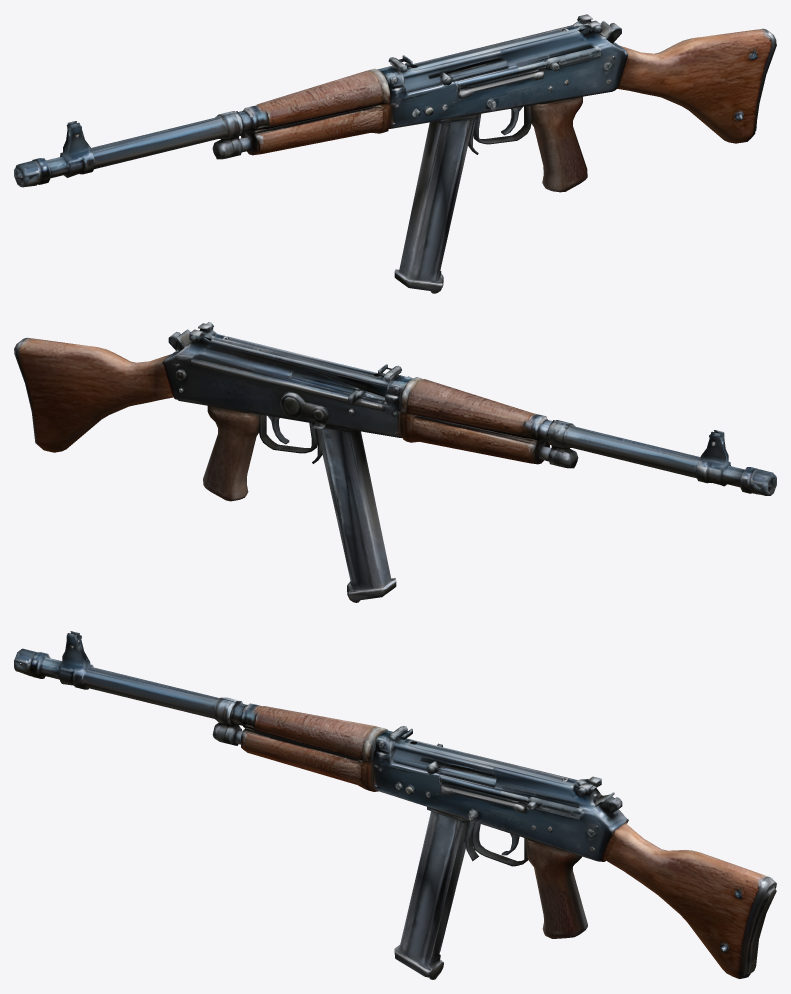
The model's file is United_Defense_M42.glb.
3 renders of one model, top to bottom at view 1: azimuth 30°, elevation 25°; view 2: azimuth 150°, elevation 25°; view 3: azimuth 330°, elevation 25°, orthographic.
Parts seen in each view (by area): view 1: tripo_node_eacd2cbe-9e86-4e96-b8fd-9f664f209940; view 2: tripo_node_eacd2cbe-9e86-4e96-b8fd-9f664f209940; view 3: tripo_node_eacd2cbe-9e86-4e96-b8fd-9f664f209940.
Boxes of the visible parts, x1,y1,x2,y2 form: tripo_node_eacd2cbe-9e86-4e96-b8fd-9f664f209940: [14, 14, 776, 293]; tripo_node_eacd2cbe-9e86-4e96-b8fd-9f664f209940: [14, 322, 776, 602]; tripo_node_eacd2cbe-9e86-4e96-b8fd-9f664f209940: [14, 631, 776, 979].
Bounding box in the file's own units: 0.998 × 0.3262 × 0.0723.
1 material, 1 textured.
